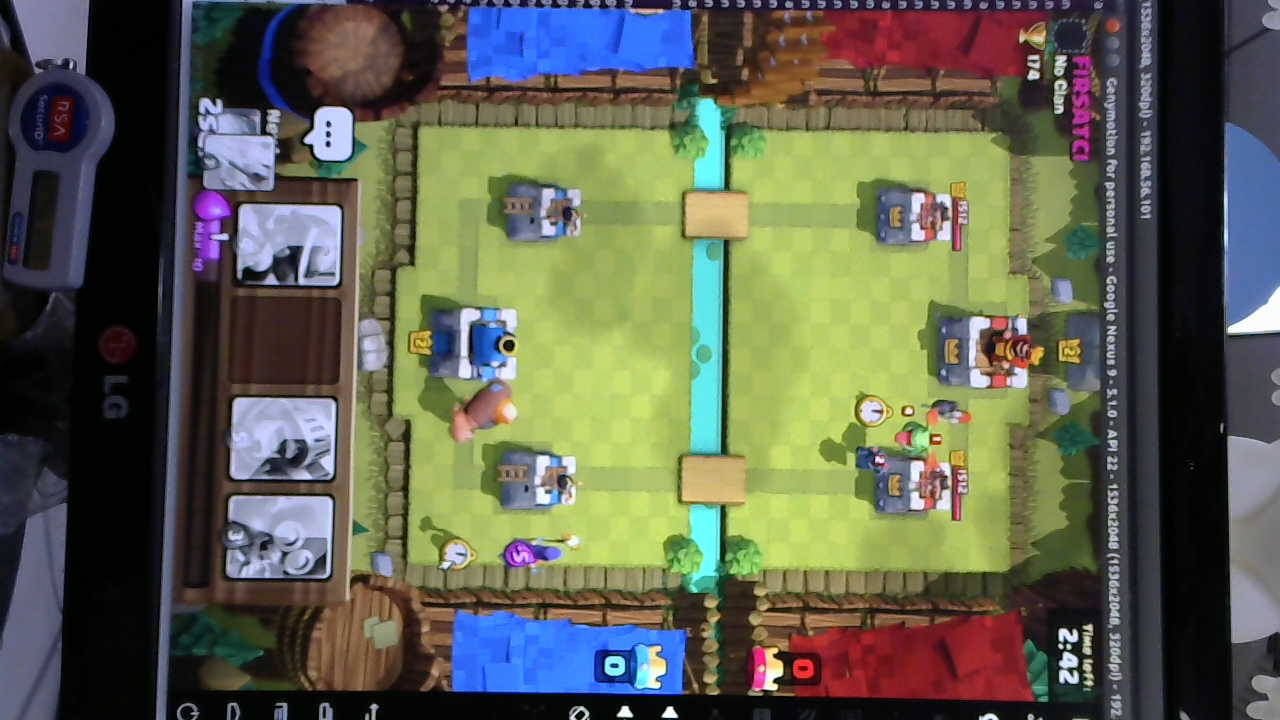bombE: (850, 393, 972, 430)
